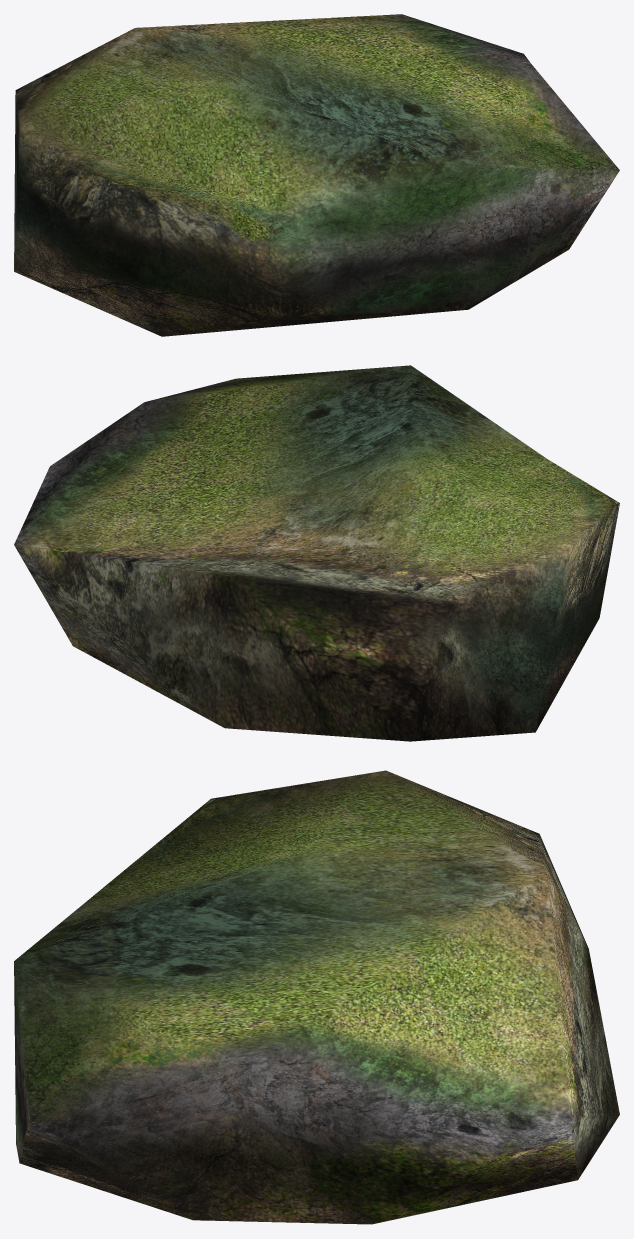
File: rock_011_LOD.fbx
The picture shows the model from 3 angles, top to bottom: view 1: azimuth 30°, elevation 25°; view 2: azimuth 150°, elevation 25°; view 3: azimuth 270°, elevation 25°; orthographic projection. The views are drawn at different scales.
Visible parts, largest first — view 1: rock_011_LOD1; view 2: rock_011_LOD1; view 3: rock_011_LOD1.
Part boxes in pixels (<box>): rock_011_LOD1: <box>14,14,619,336</box>; rock_011_LOD1: <box>14,365,619,741</box>; rock_011_LOD1: <box>14,770,619,1224</box>.
Bounding box in the file's own units: 455 × 196 × 381.
1 material, 1 textured.
